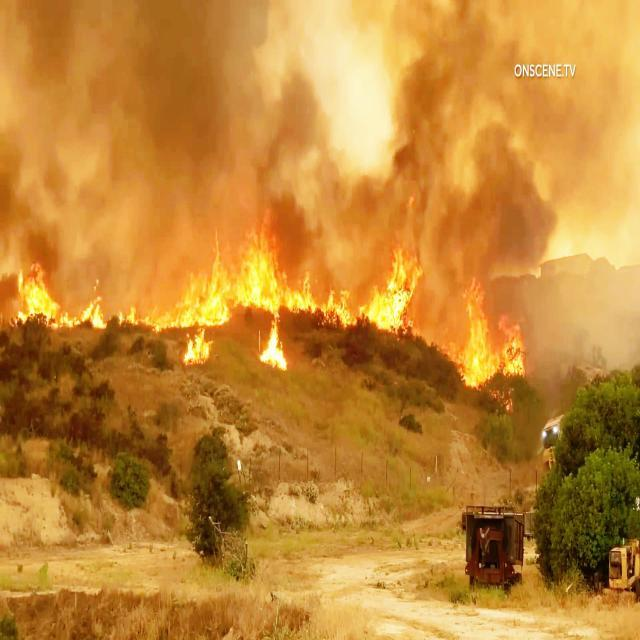Fire: (175, 239, 415, 371), (450, 282, 532, 397), (12, 262, 110, 338), (117, 295, 182, 334)
Smoke: (1, 2, 640, 260)
